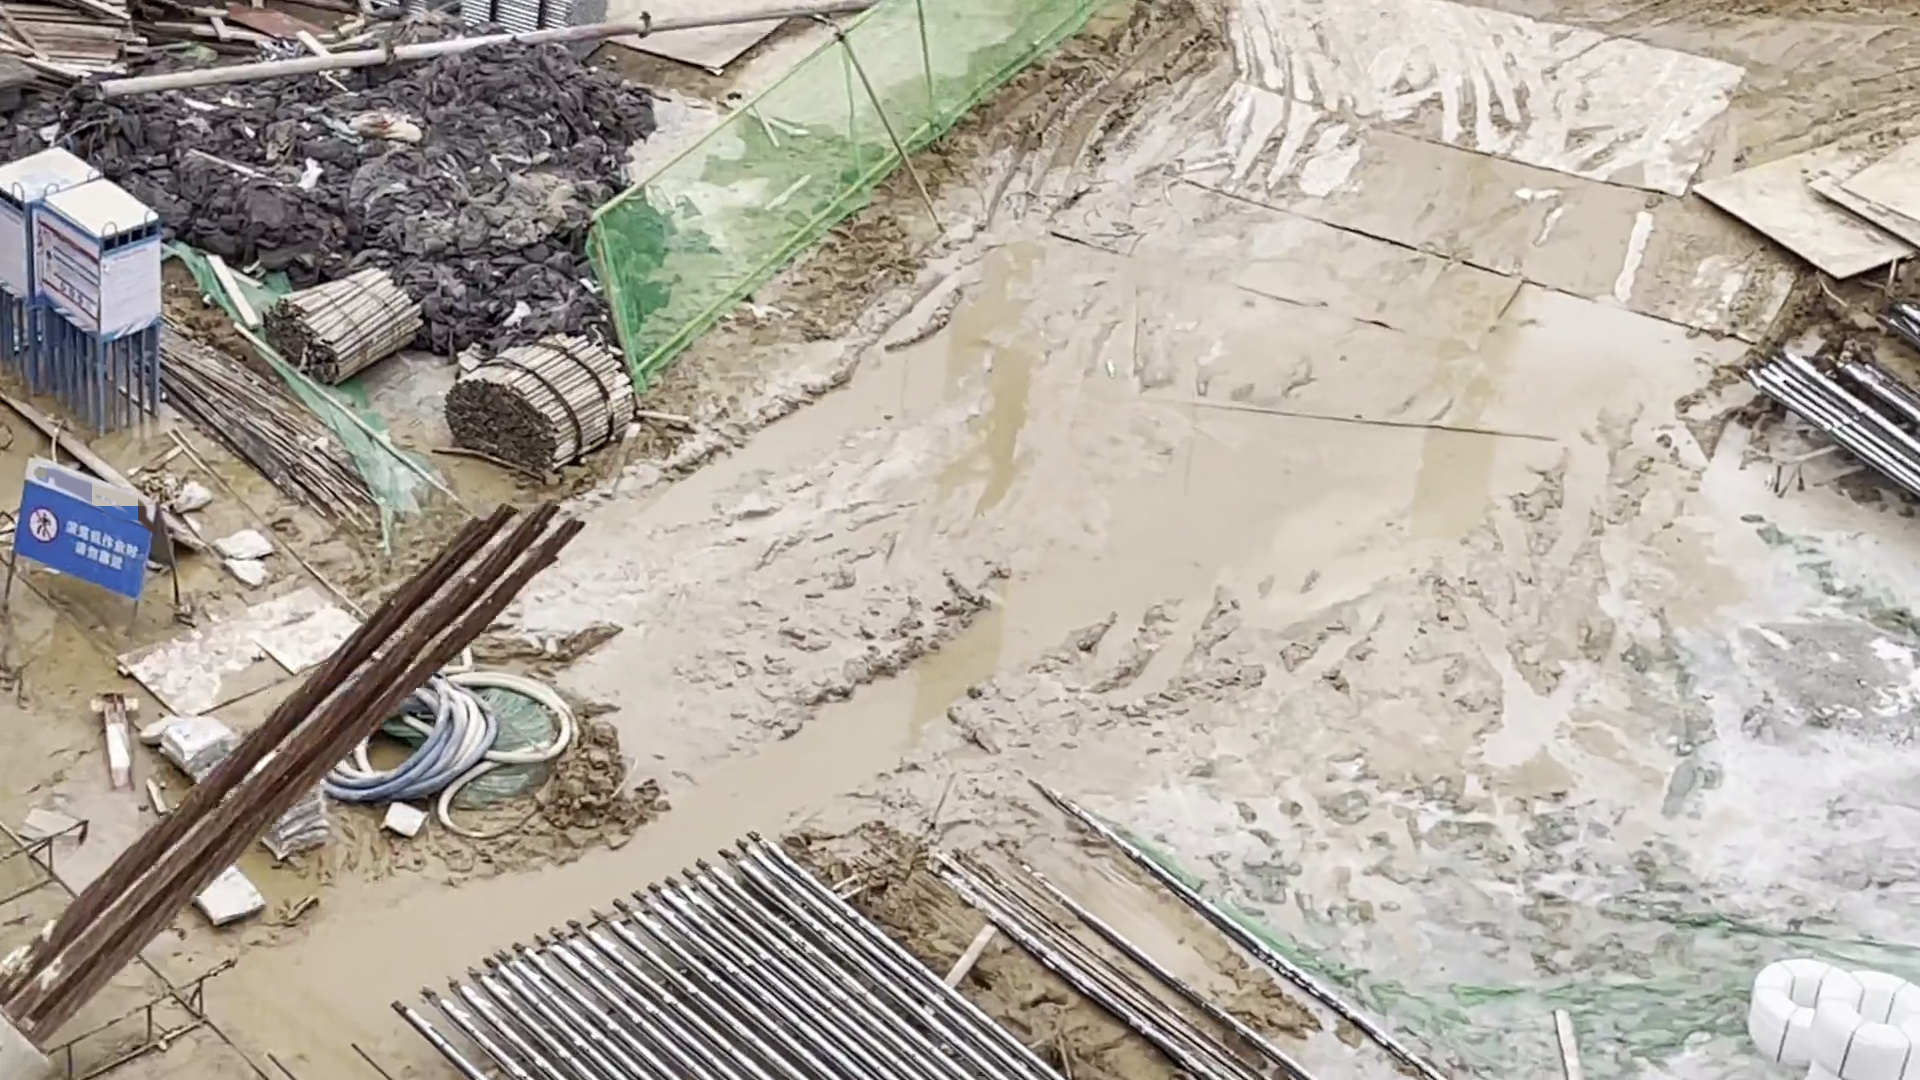scaffold: (459, 1, 612, 67)
slogan: (15, 495, 142, 591)
wood: (447, 328, 640, 477), (258, 264, 426, 389)
